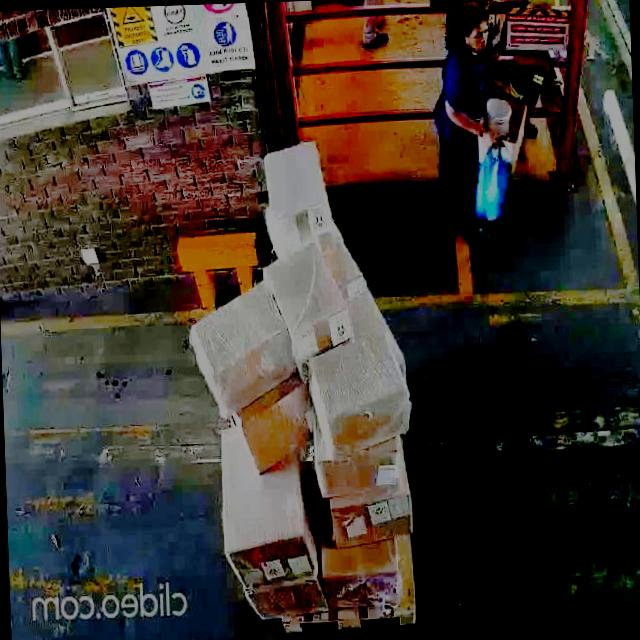Box: (310, 331, 413, 462), (192, 292, 290, 404), (222, 462, 308, 586), (281, 232, 347, 344), (240, 377, 312, 473), (263, 135, 331, 236), (318, 540, 398, 614), (327, 488, 412, 554), (313, 443, 403, 498), (244, 576, 323, 622)
